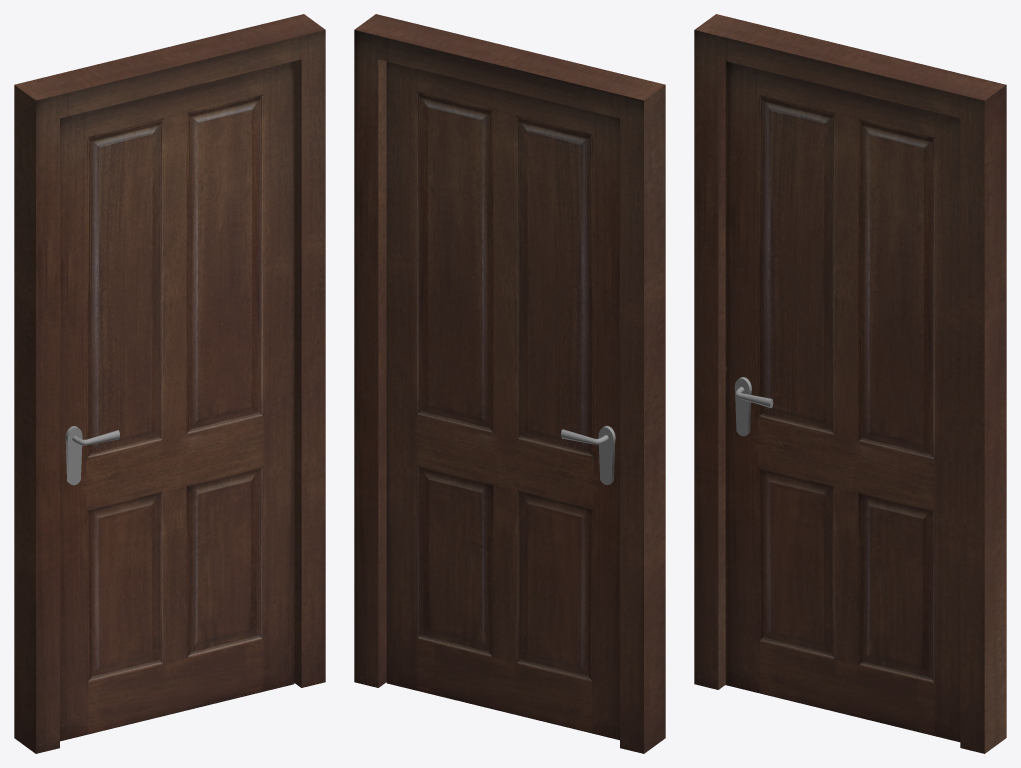
The model's file is Door.FBX.
3 views of the same model, side by side, from view 1: azimuth 30°, elevation 25°; view 2: azimuth 150°, elevation 25°; view 3: azimuth 330°, elevation 25° (orthographic).
Parts seen in each view (by area): view 1: Door, door frame; view 2: Door, door frame; view 3: Door, door frame.
Part boxes in pixels (x1,y1,x2,y2): Door: (60,61,294,741); door frame: (14,14,325,753); Door: (386,61,619,740); door frame: (354,14,665,753); Door: (725,61,960,742); door frame: (694,14,1006,753).
Size of the model in its own units: 96.56 by 208 by 16.78.
2 materials, 1 textured.
